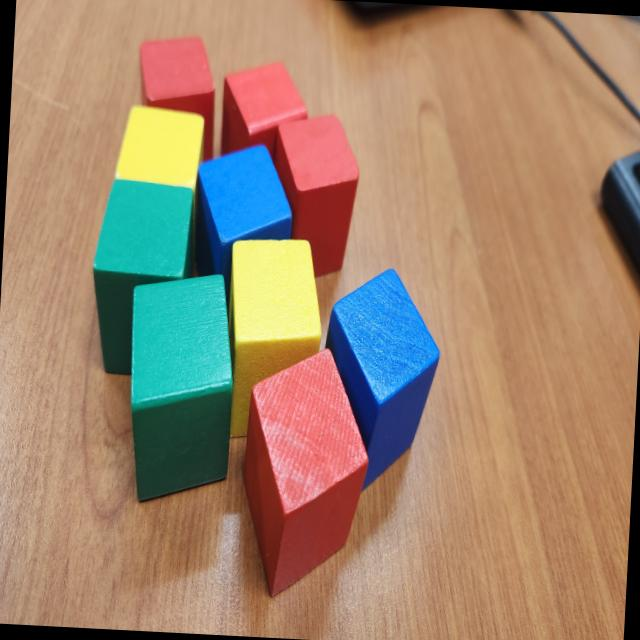blue: (320, 264, 446, 498), (192, 142, 300, 290)
green: (122, 269, 240, 507), (86, 179, 204, 379)
red: (233, 343, 374, 602), (264, 112, 364, 282), (134, 32, 220, 164), (220, 57, 312, 169)
yellow: (222, 236, 328, 444), (115, 104, 206, 189)
